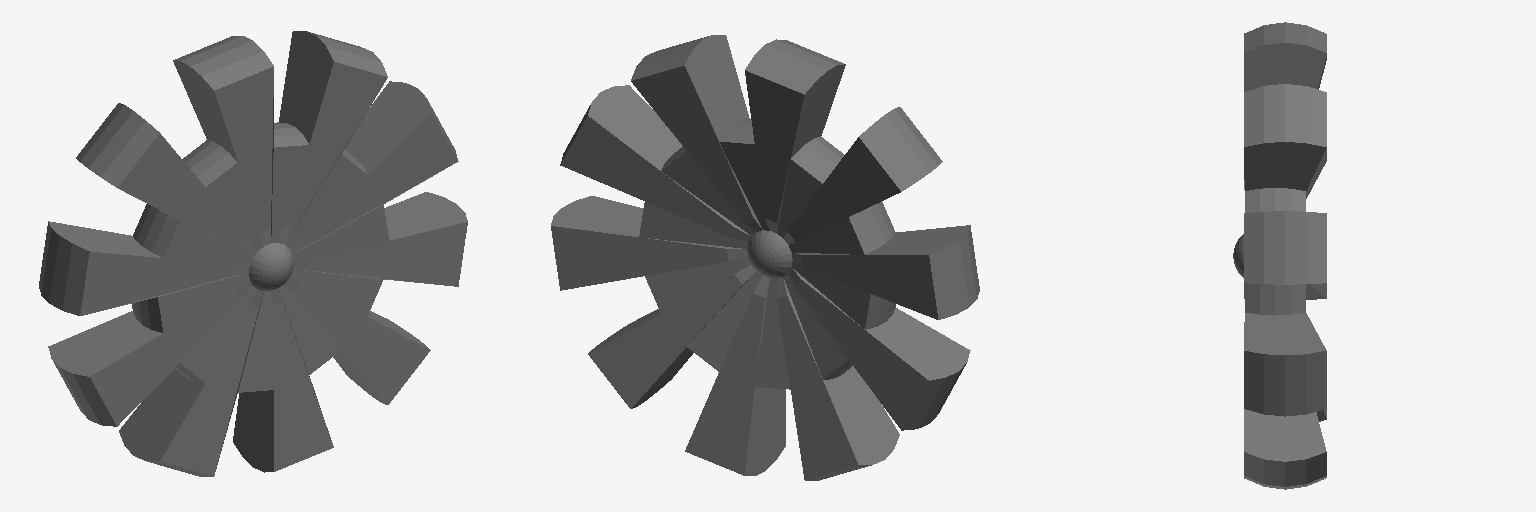
File: PlantHead.obj
3 views of the same model, side by side, from view 1: azimuth 30°, elevation 25°; view 2: azimuth 150°, elevation 25°; view 3: azimuth 270°, elevation 25° (orthographic).
Parts seen in each view (by area): view 1: pSphere1; view 2: pSphere1; view 3: pSphere1.
Boxes of the visible parts, x1=… form: pSphere1: x1=39, y1=31, x2=467, y2=476; pSphere1: x1=551, y1=35, x2=979, y2=480; pSphere1: x1=1233, y1=22, x2=1326, y2=489.
Size of the model in its own units: 21.86 by 21.86 by 4.34.